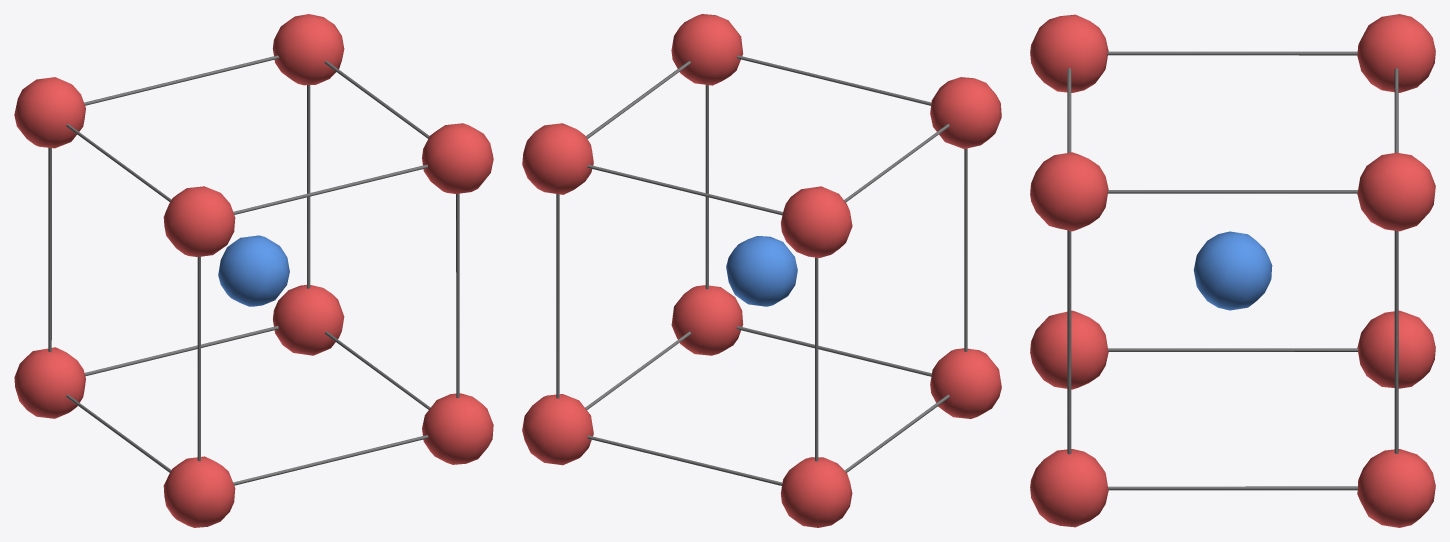
The model's file is bcc_schematic.glb.
3 views of the same model, side by side, from view 1: azimuth 30°, elevation 25°; view 2: azimuth 150°, elevation 25°; view 3: azimuth 270°, elevation 25° (orthographic). The views are drawn at different scales.
Parts seen in each view (by area): view 1: atom_0, atom_4, atom_8, atom_5, atom_1, atom_7, atom_2, atom_6, atom_3, bond_2, bond_0, bond_4 (+5 smaller); view 2: atom_2, atom_6, atom_7, atom_8, atom_4, atom_3, atom_0, atom_5, atom_1, bond_0, bond_6, bond_2 (+5 smaller); view 3: atom_3, atom_8, atom_7, atom_5, atom_1, atom_6, atom_4, atom_2, atom_0, bond_7, bond_1, bond_9 (+3 smaller).
Part boxes in pixels (x1,y1,x2,y2): atom_0: (163,456,235,527); atom_4: (163,186,235,256); atom_8: (218,235,289,306); atom_5: (422,123,493,193); atom_1: (422,393,493,464); atom_7: (272,14,344,85); atom_2: (14,347,85,418); atom_6: (14,77,85,148); atom_3: (273,284,344,355); bond_2: (84,326,278,376); bond_0: (233,435,428,485); bond_4: (233,164,427,214); atom_2: (780,457,852,527); atom_6: (781,186,852,257); atom_7: (522,123,593,194); atom_8: (726,236,797,306); atom_4: (930,77,1001,148); atom_3: (522,394,593,465); atom_0: (930,348,1001,418); atom_5: (671,14,743,85); atom_1: (671,285,743,355); bond_0: (736,326,931,376); bond_6: (587,164,782,215); bond_2: (587,435,782,485); atom_3: (1357,449,1435,527); atom_8: (1193,231,1272,310); atom_7: (1357,152,1435,231); atom_5: (1030,152,1108,231); atom_1: (1030,449,1108,527); atom_6: (1357,14,1435,92); atom_4: (1030,14,1108,92); atom_2: (1357,310,1435,388); atom_0: (1030,310,1108,389); bond_7: (1107,51,1357,55); bond_1: (1108,486,1357,490); bond_9: (1067,230,1071,454).
Size of the model in its own units: 12.4 by 12.4 by 12.4.
